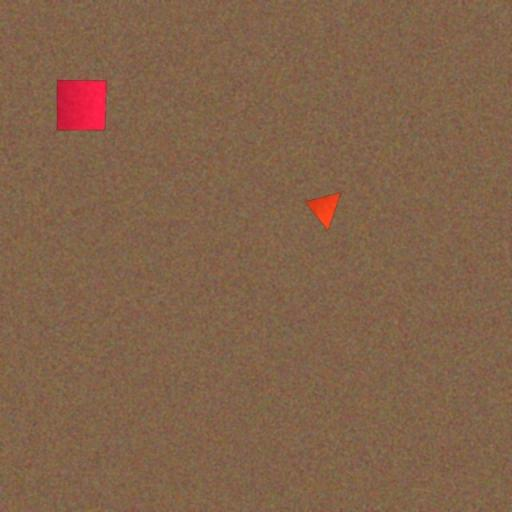RED_SQUARE: (56, 79, 107, 131)
